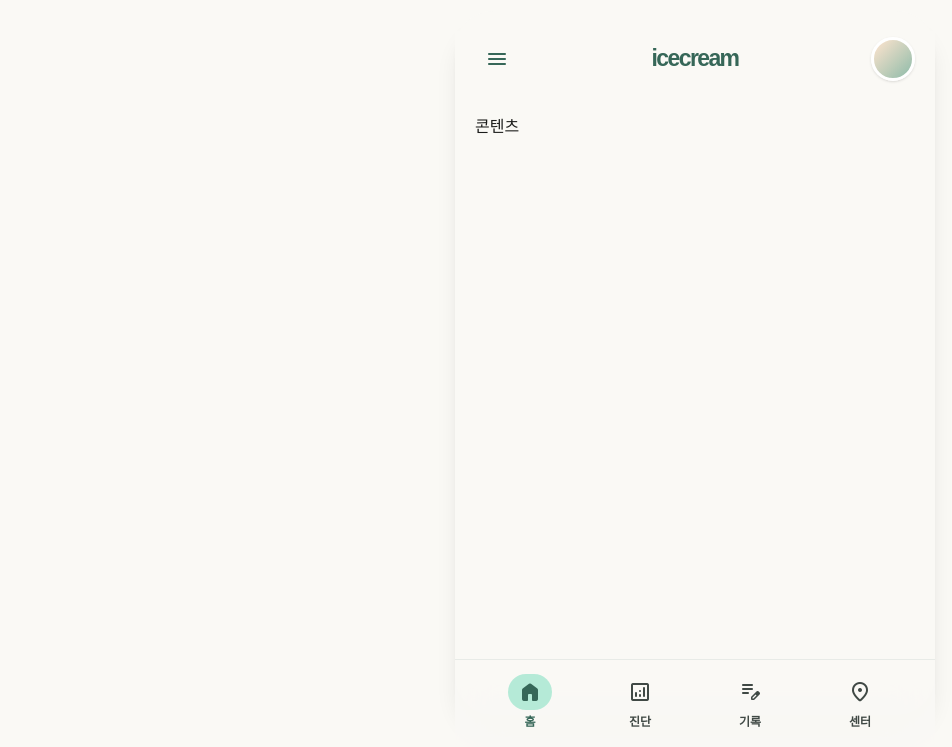
Test: AppLayout › 하단 탭을 키보드와 클릭으로 이동할 수 있다
Click the link "기록" at (750, 703), box top-left (738, 678), bottom-right (762, 728)
(page scrolled)
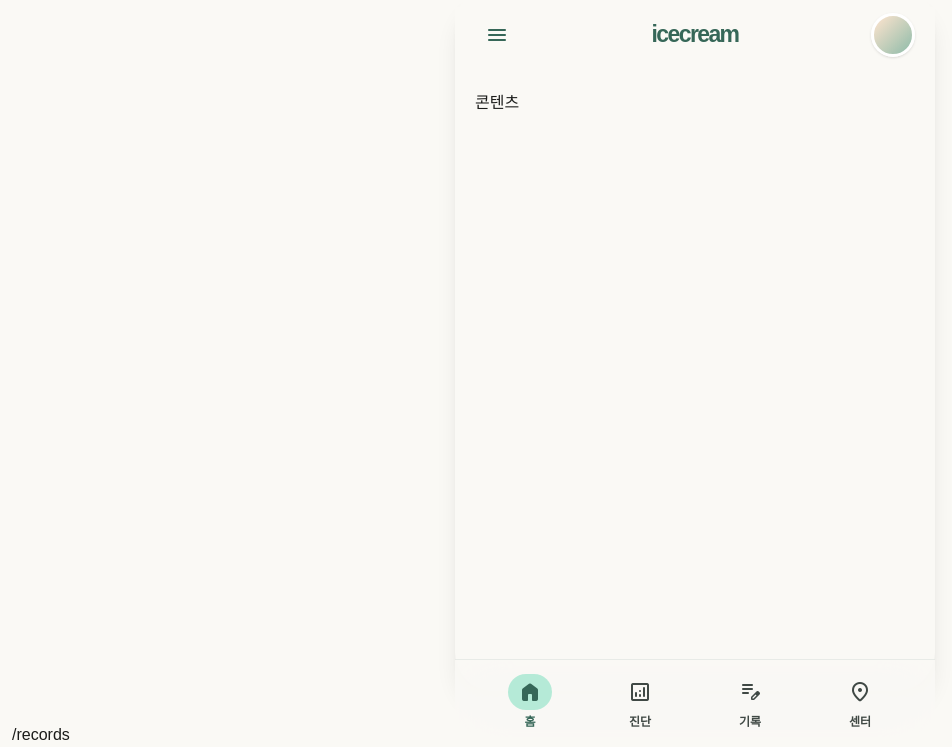
Check: the text with test id "location" reads "/records", box top-left (12, 726), bottom-right (70, 743)
